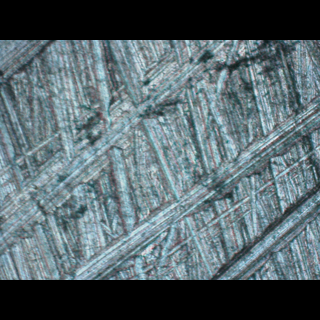d: (79, 94, 320, 279), (204, 181, 320, 279)
